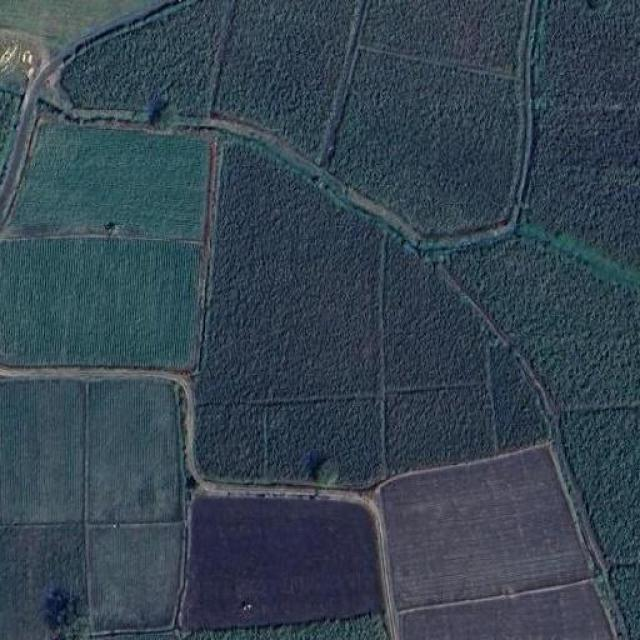land-Sx1C: (202, 146, 379, 399), (380, 446, 589, 612), (332, 54, 518, 233), (450, 240, 640, 409), (524, 0, 640, 268), (181, 494, 378, 629), (0, 239, 197, 367), (216, 0, 365, 162), (11, 125, 208, 238), (62, 0, 238, 116), (384, 239, 485, 394), (89, 380, 181, 522), (561, 406, 640, 569), (399, 580, 611, 640), (0, 381, 84, 522), (366, 0, 522, 73), (0, 515, 85, 639), (265, 401, 381, 486), (91, 522, 181, 631), (0, 0, 165, 54), (386, 389, 490, 474), (1, 29, 49, 174), (492, 348, 548, 452), (185, 615, 389, 639), (196, 405, 259, 479), (610, 563, 640, 639)
